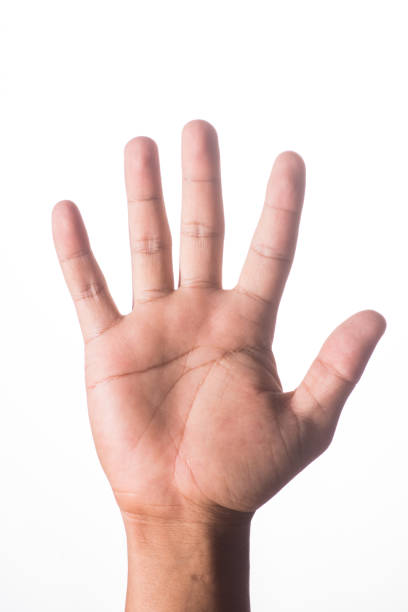hand: (38, 108, 391, 540)
